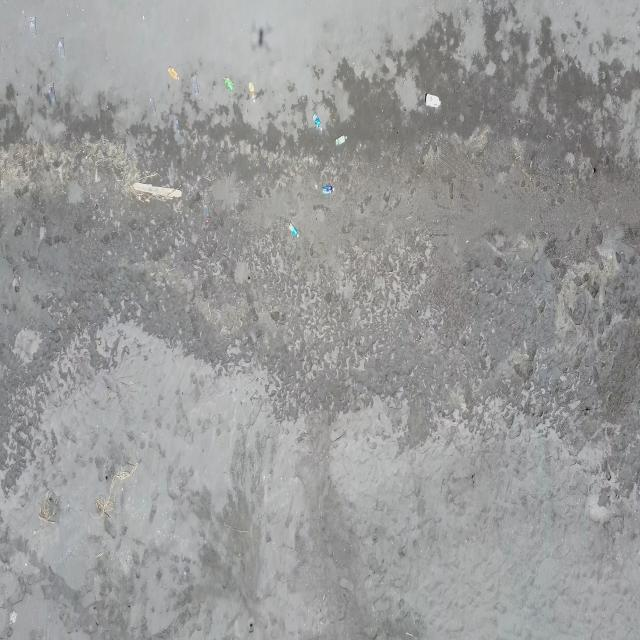plastic-bottle: (423, 93, 441, 109), (312, 111, 322, 133), (321, 182, 336, 196), (248, 82, 257, 104), (334, 133, 348, 147), (289, 220, 299, 238), (169, 66, 180, 82), (224, 76, 234, 91)
takeaway-cup: (45, 81, 57, 105), (55, 36, 67, 59), (171, 112, 182, 135), (148, 96, 158, 118), (203, 201, 212, 225), (28, 15, 37, 38), (192, 79, 200, 98)
